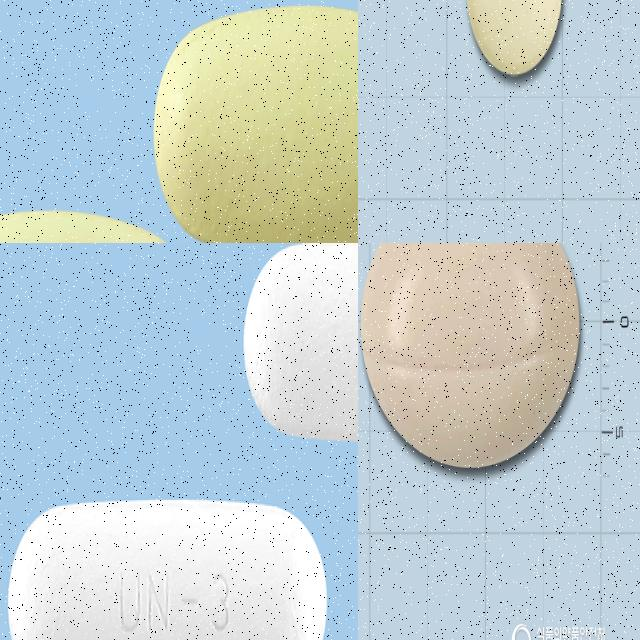Klaricid Film Coated: (151, 2, 358, 243)
Neopol Vaginal Soft Cap: (360, 243, 581, 470)
Nevolaxin Tablet: (467, 0, 564, 75)
Uniciprosacin Tab: (6, 502, 326, 640), (244, 243, 358, 439)
